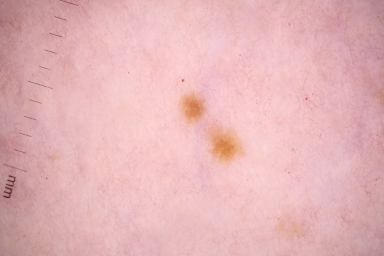melanoma: (179, 91, 211, 125), (211, 132, 245, 163)
